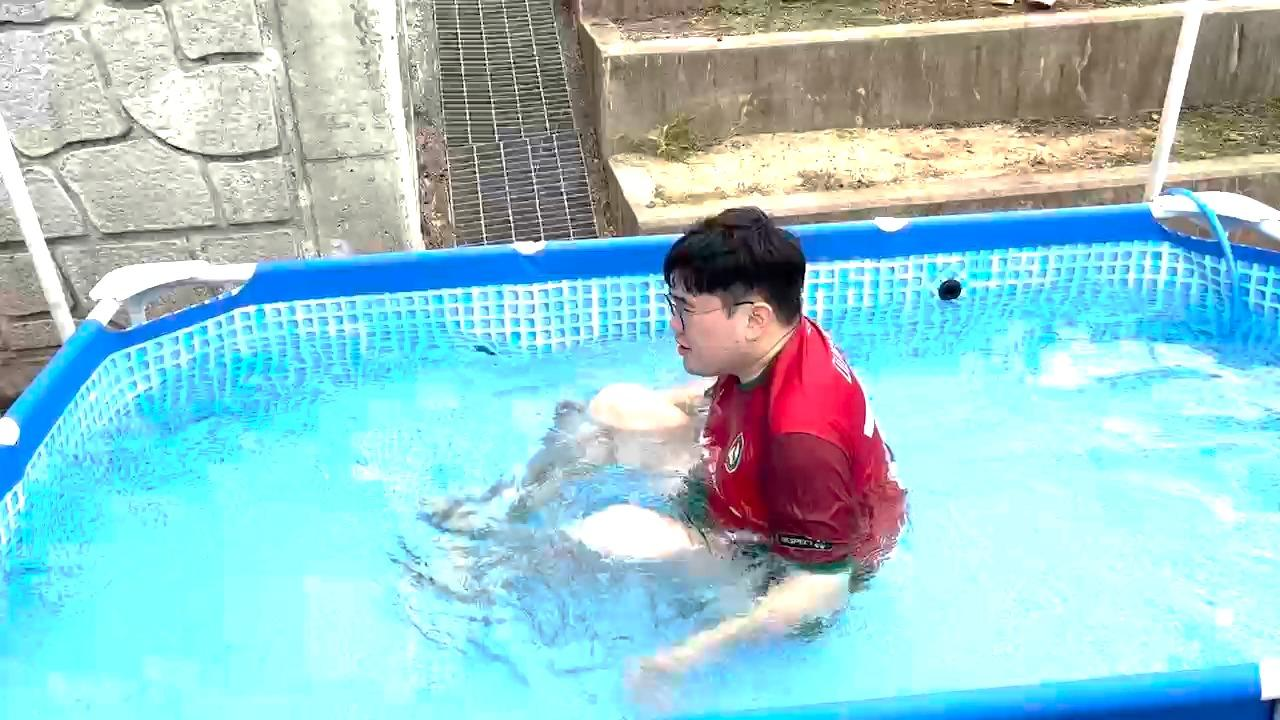Swimming: (370, 169, 938, 674)
